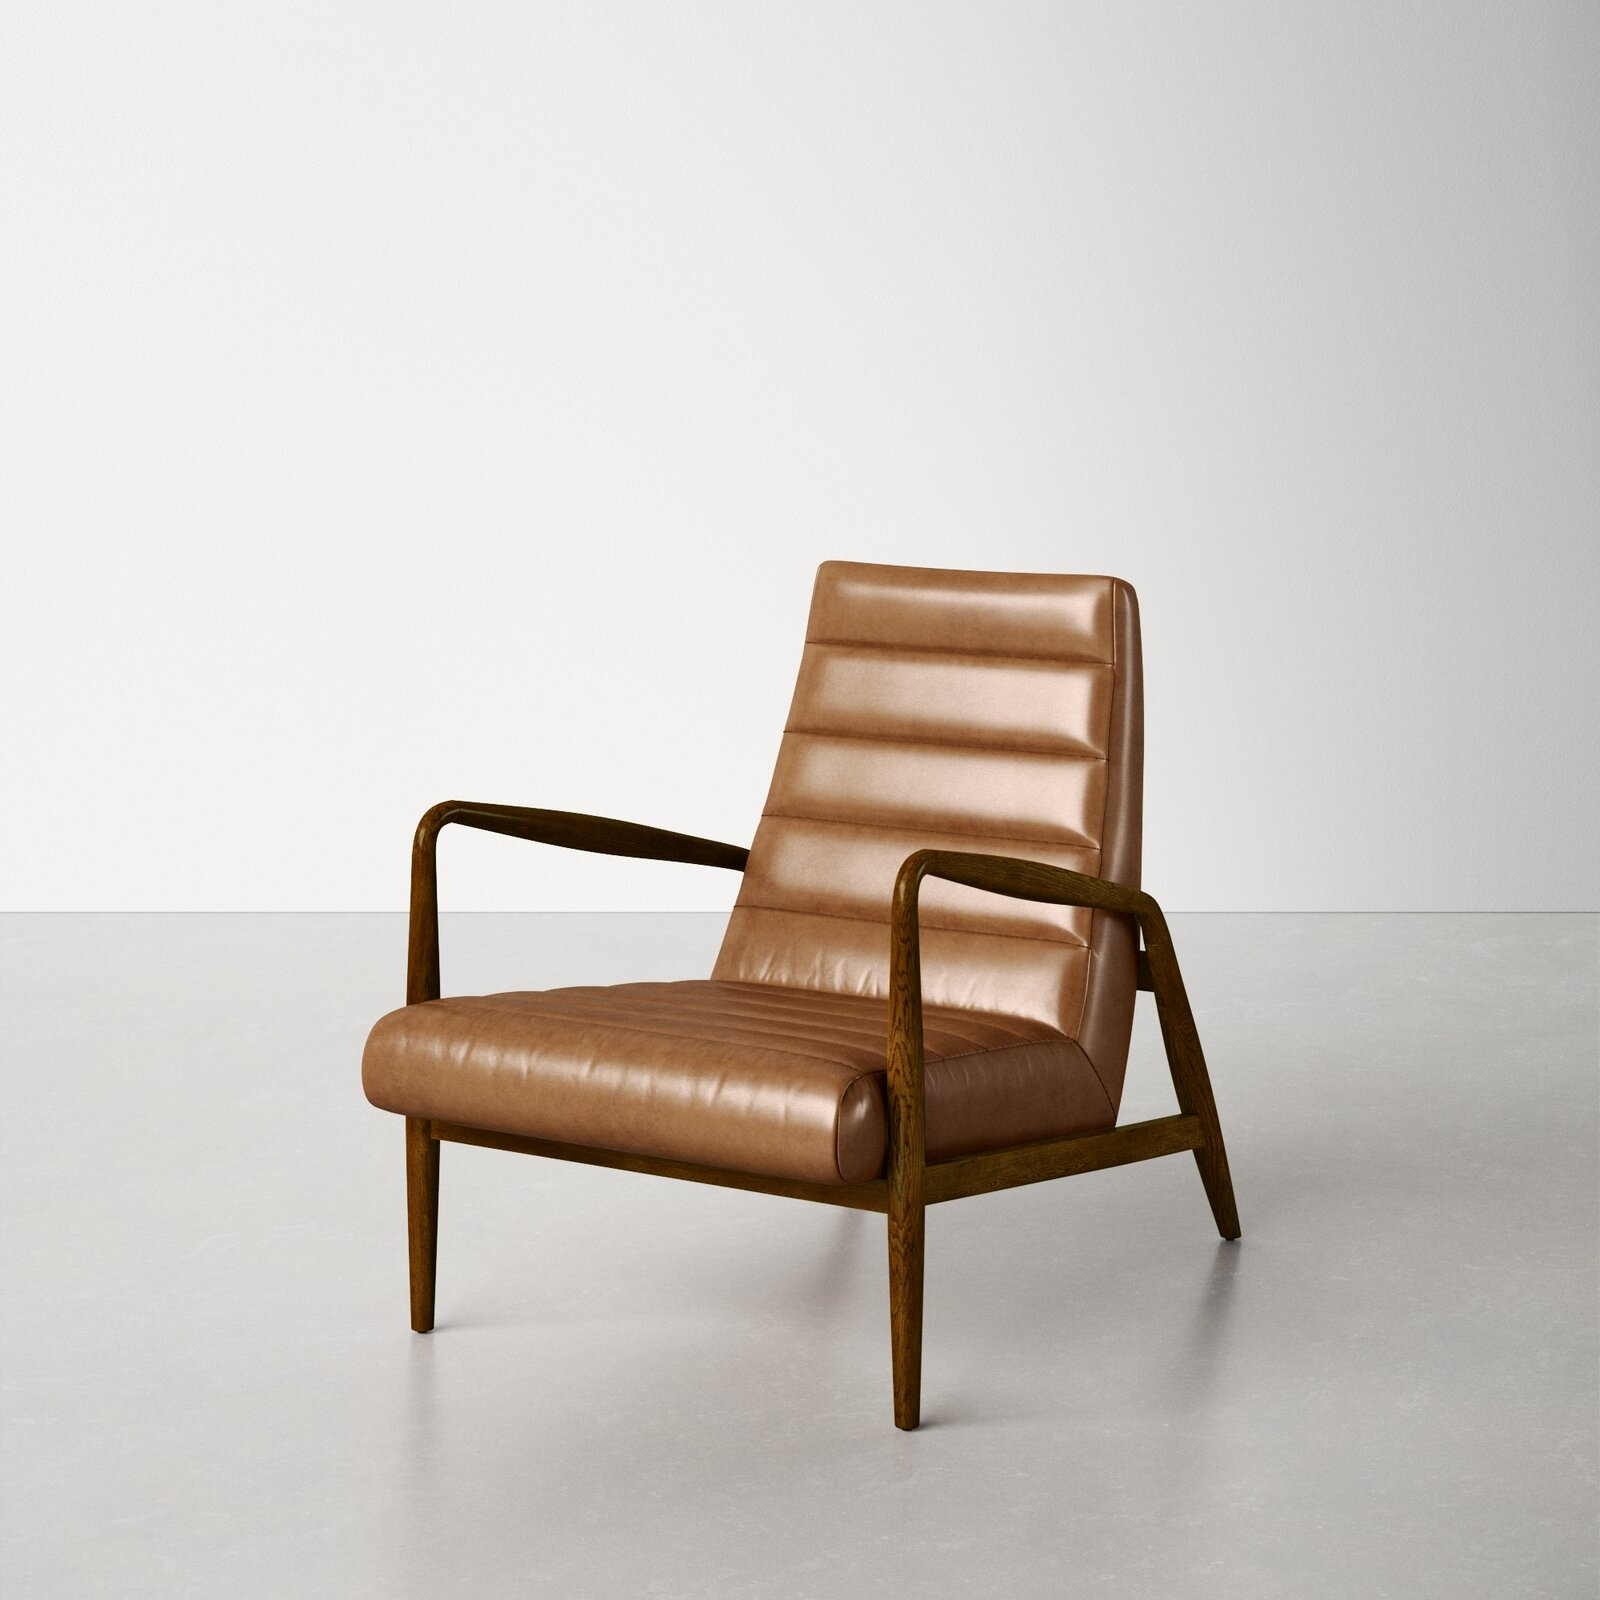obstacle: (363, 563, 1240, 1429)
